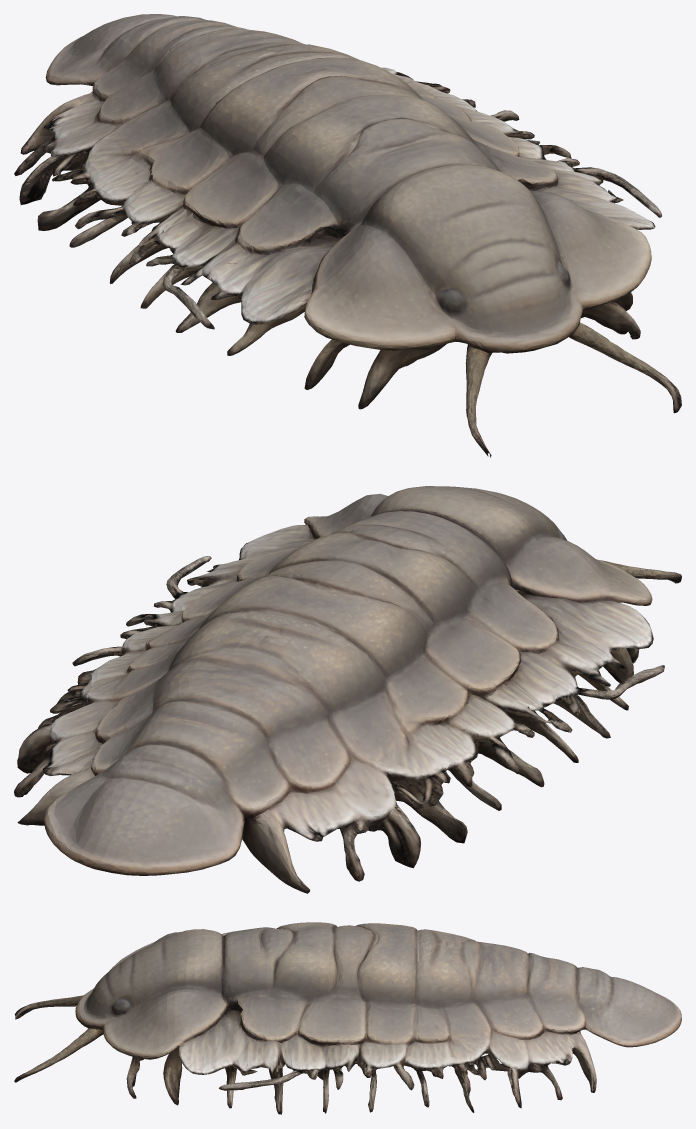
3 renders of one model, top to bottom at view 1: azimuth 30°, elevation 25°; view 2: azimuth 150°, elevation 25°; view 3: azimuth 270°, elevation 25°, orthographic. The views are drawn at different scales.
Visible parts, largest first — view 1: world; view 2: world; view 3: world.
Part boxes in pixels (x1,y1,x2,y2): world: (14, 14, 681, 457); world: (14, 486, 681, 893); world: (14, 922, 681, 1114).
Bounding box in the file's own units: 0.5491 × 0.2011 × 1.
Materials: 1 (1 with a texture image).
